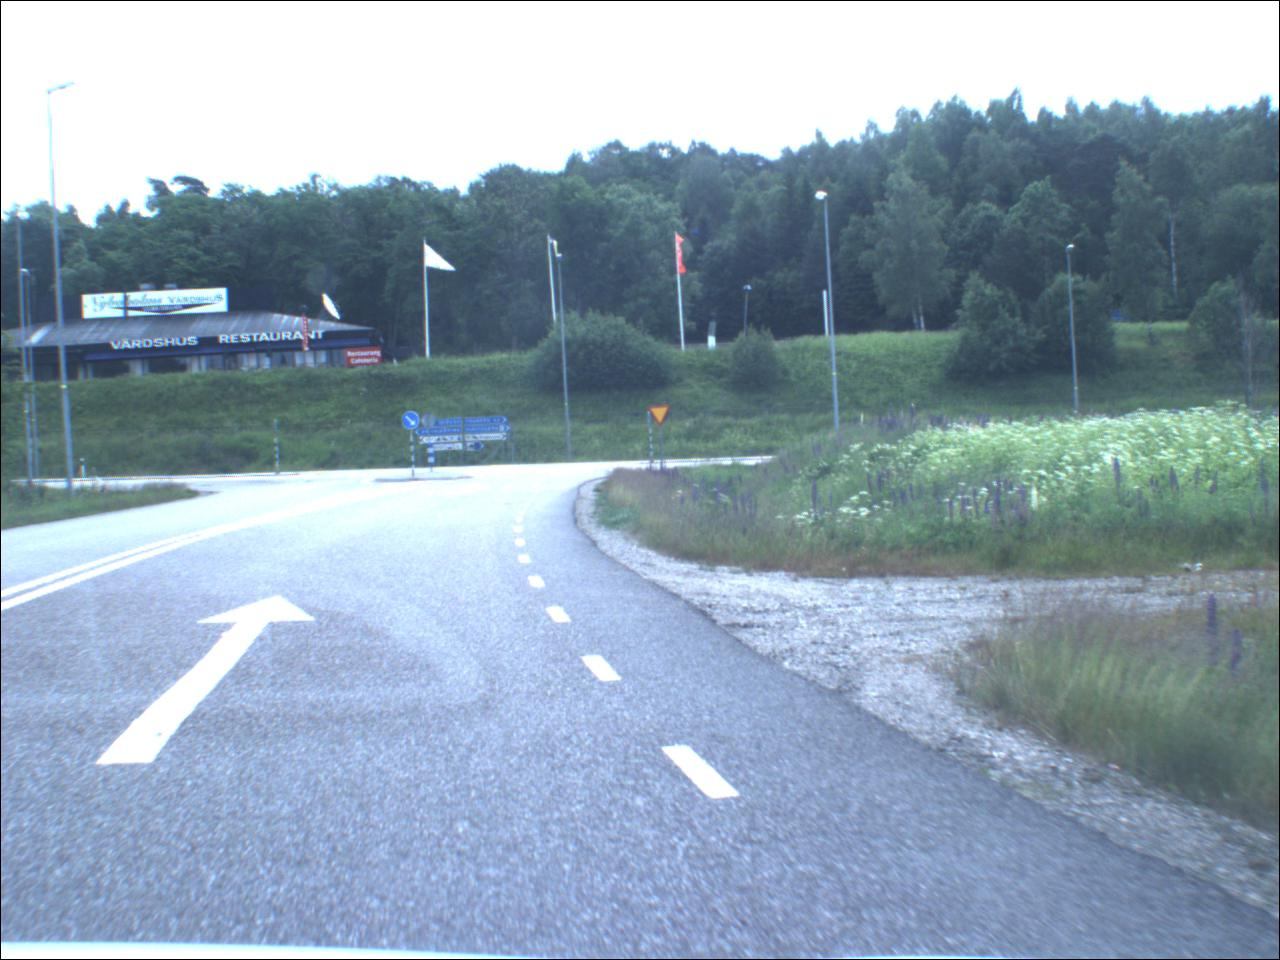GIVE_WAY: (650, 403, 674, 427)
PASS_RIGHT_SIDE: (402, 411, 425, 433)
